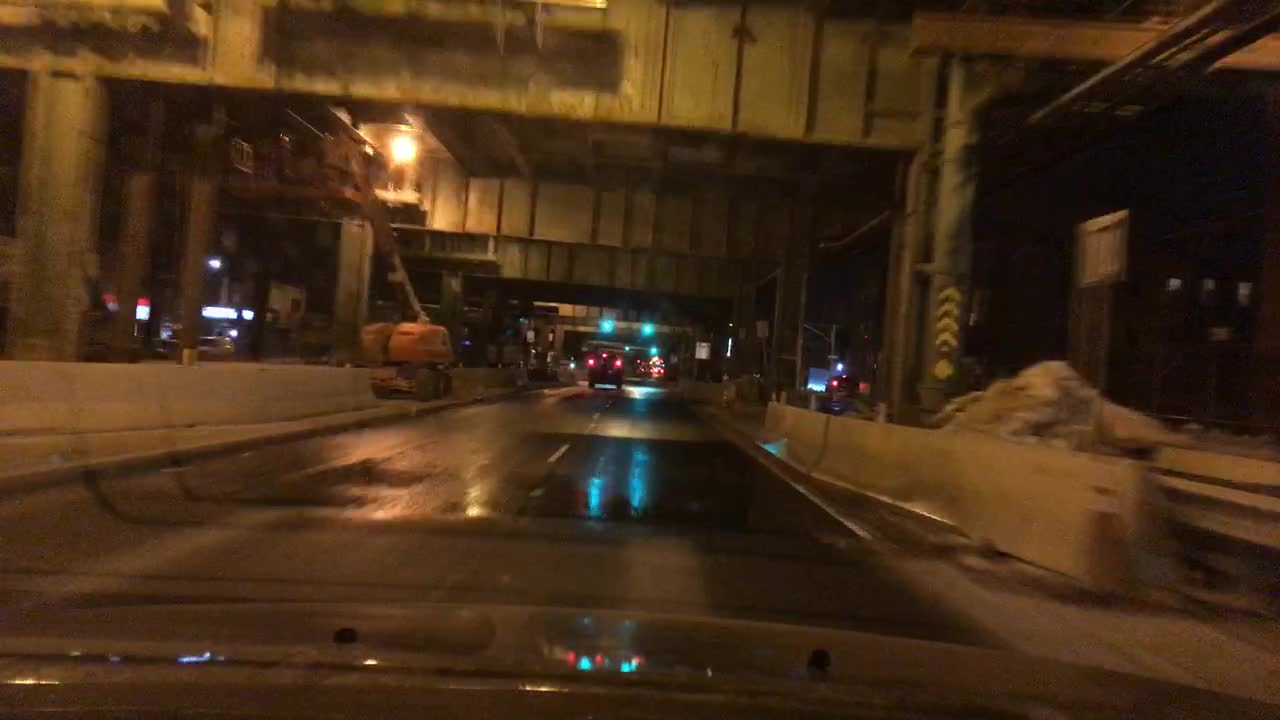car: (587, 349, 625, 387), (200, 334, 235, 360), (826, 375, 856, 397), (634, 359, 647, 377), (649, 368, 667, 381), (565, 356, 574, 366)
person: (269, 130, 295, 189)
traffic light: (600, 316, 613, 339), (643, 319, 654, 341), (502, 326, 512, 337), (516, 314, 526, 324)
traffic sign: (1074, 211, 1130, 283), (231, 140, 254, 173), (695, 340, 709, 359), (758, 318, 768, 335), (737, 330, 746, 340)
truck: (229, 131, 458, 402), (261, 284, 309, 329)
